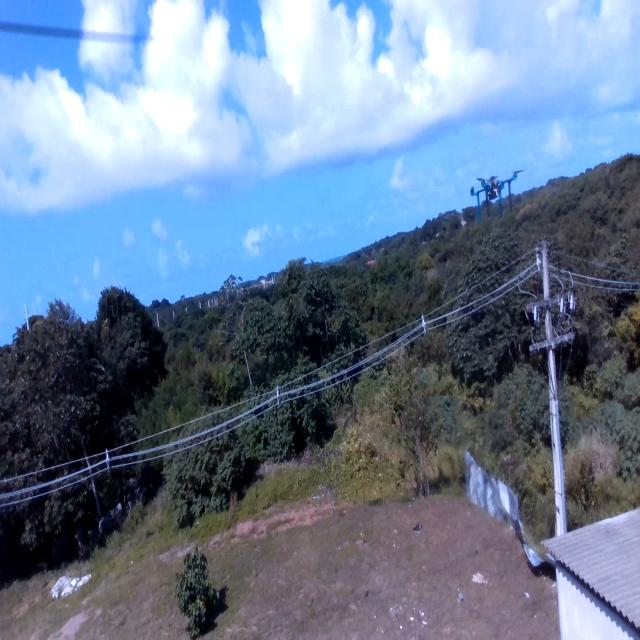-uav-: (460, 158, 528, 236)
